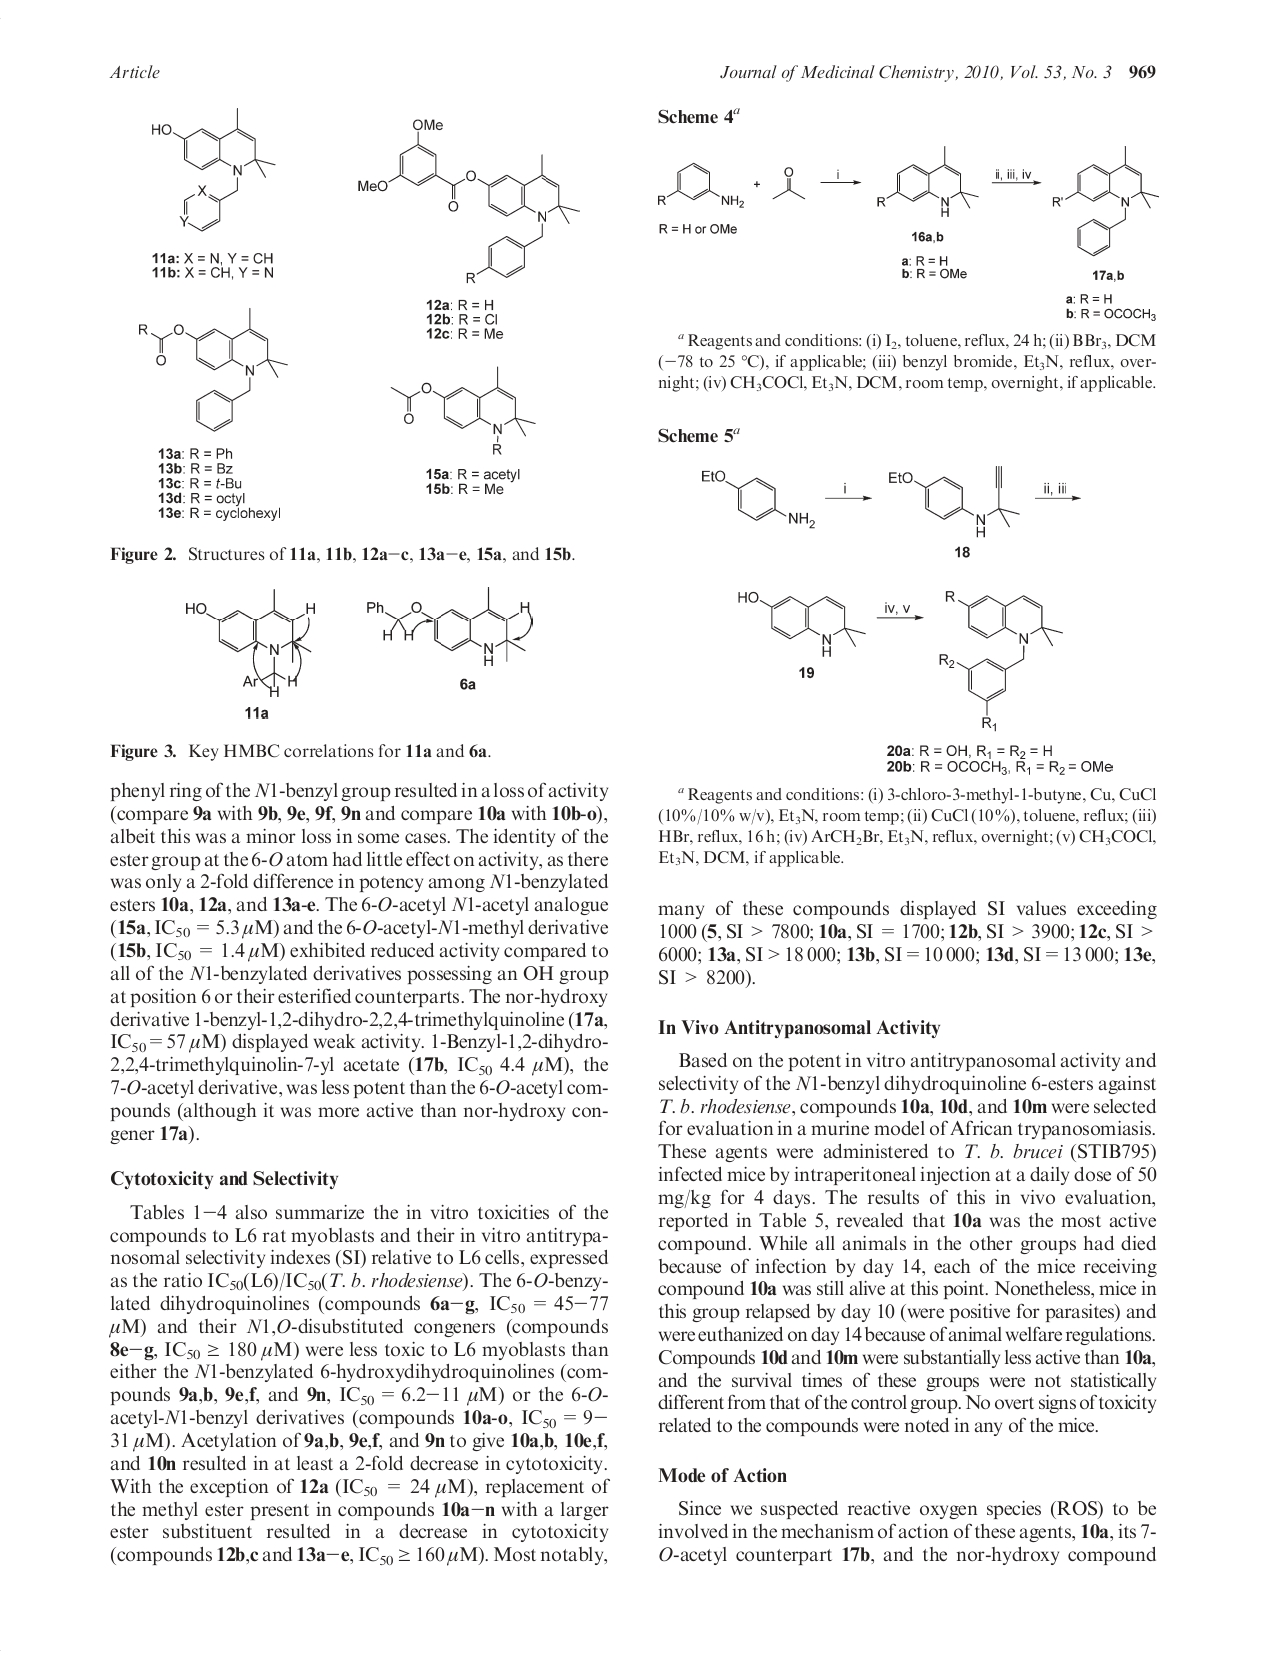exist_molecular: (356, 116, 580, 285), (137, 309, 291, 434), (938, 588, 1064, 733), (150, 106, 279, 233), (184, 589, 316, 700), (364, 584, 535, 669), (390, 364, 537, 456), (1051, 144, 1162, 258), (884, 463, 1021, 539), (735, 589, 868, 658), (876, 145, 979, 219), (699, 467, 818, 531), (656, 161, 745, 209), (773, 166, 807, 199)
